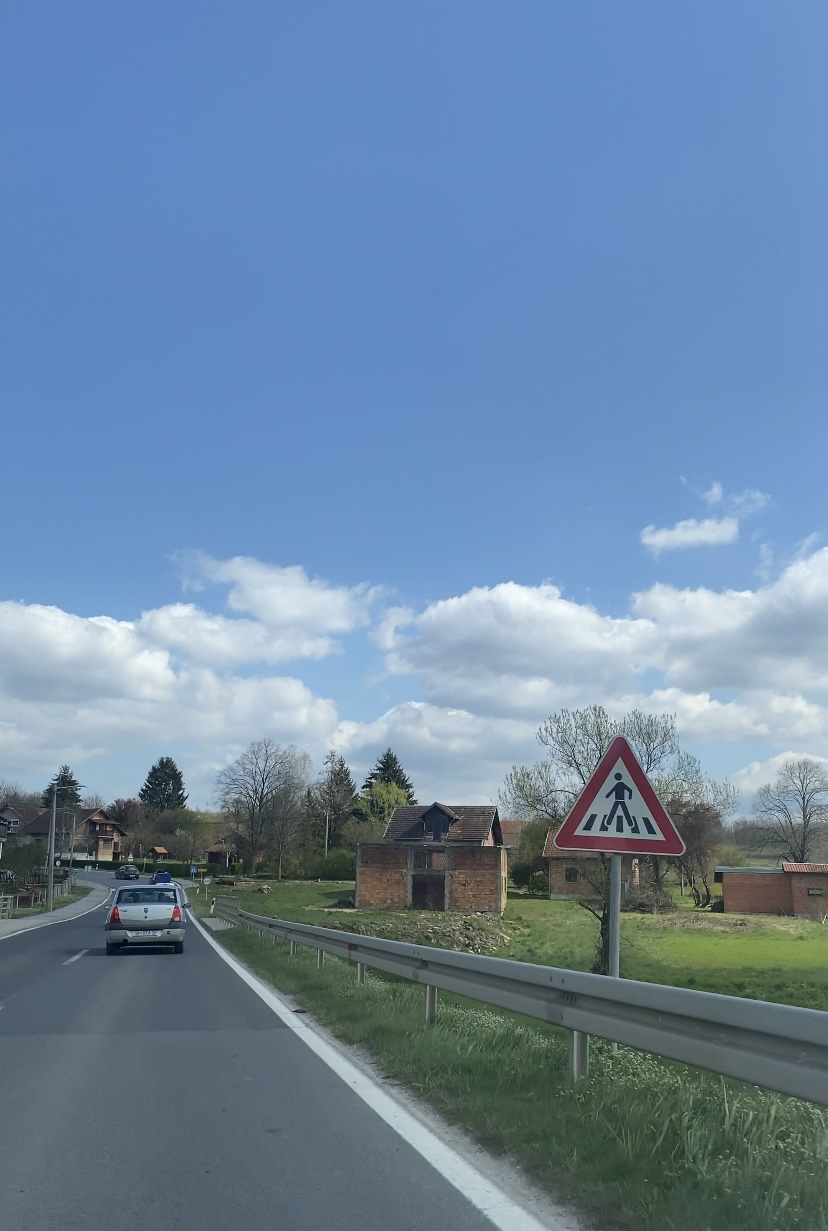Približavanje pješačkom prijelazu: (553, 735, 685, 855)
